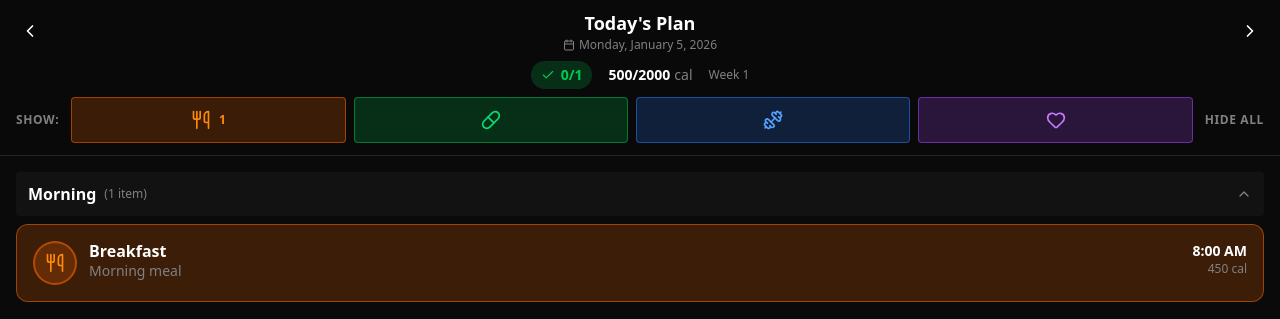
it: MobileTimelineView › collapsible periods › should expand period when collapsed header clicked
Step 1. Click the button "Morning (1 item)" → click(62, 194), box 16,172 -> 1264,216
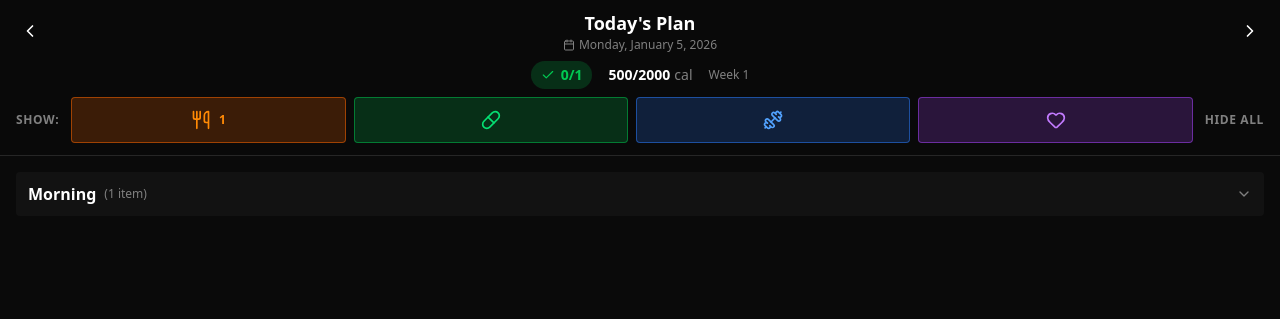
Expected: the button "Breakfast" is gone
Note: Click again to expand
Step 2. Click the button "Morning (1 item)" → click(62, 194), box 16,172 -> 1264,216
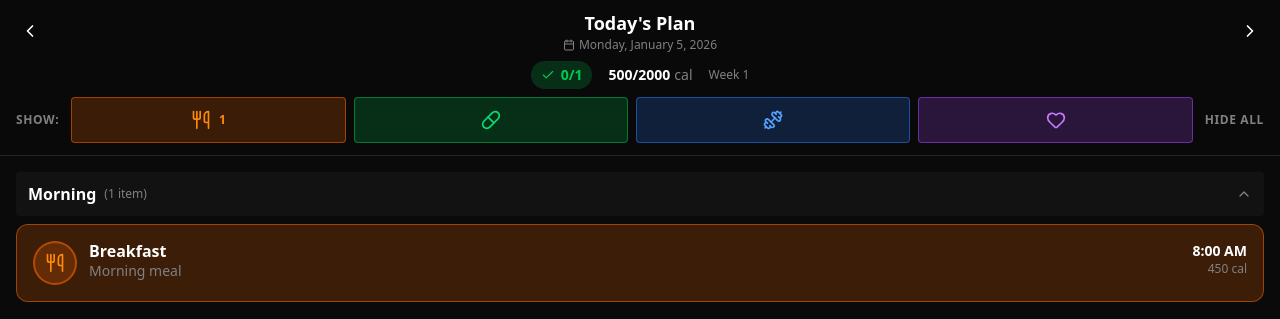
Expected: the text "Breakfast" is shown, 89,240 -> 166,262
